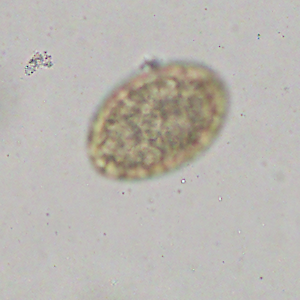Fasciola_hepatica_egg: (84, 58, 231, 182)
